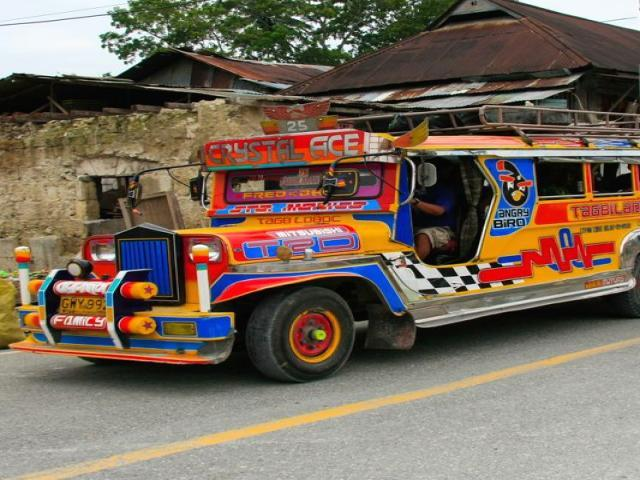jeepney: (4, 104, 640, 373)
